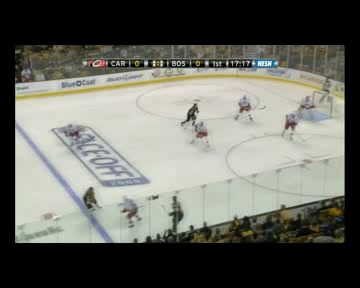normal: (179, 97, 213, 150), (231, 92, 257, 128)
